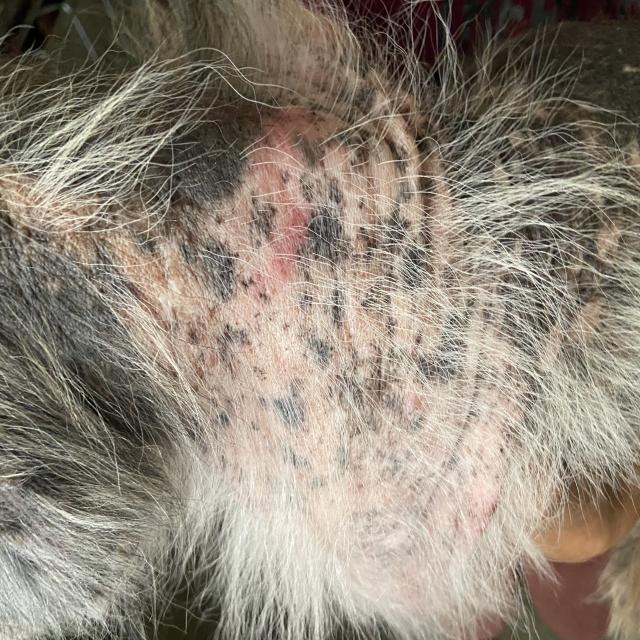demodicosis: (204, 137, 460, 477)
